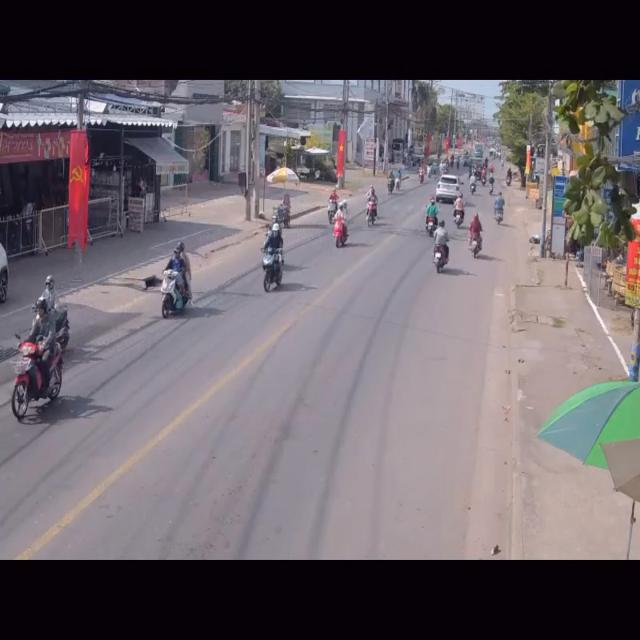car: (437, 173, 461, 205)
motorbike: (10, 316, 64, 424), (160, 242, 192, 322), (34, 278, 72, 345), (263, 223, 287, 296), (434, 223, 452, 275), (334, 204, 353, 250), (468, 213, 483, 259), (365, 187, 378, 229), (424, 199, 438, 238), (454, 195, 466, 228), (494, 193, 505, 226)
